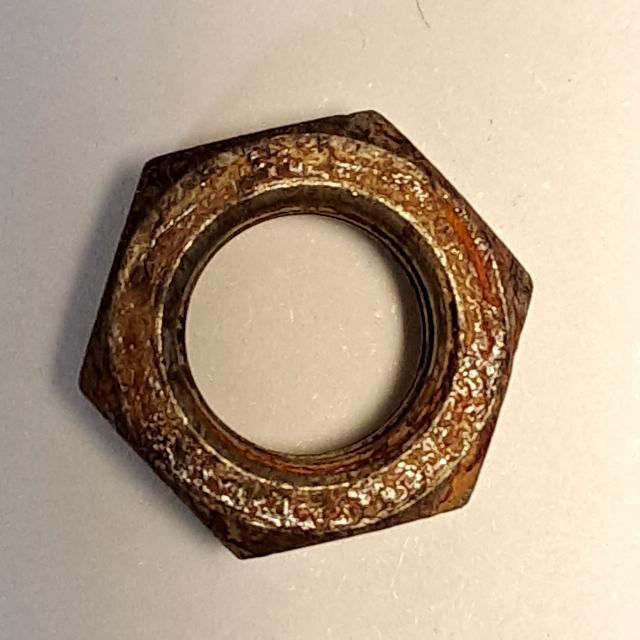Rust: (68, 87, 548, 579)
